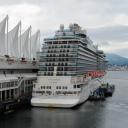cruises: (30, 24, 110, 112)
